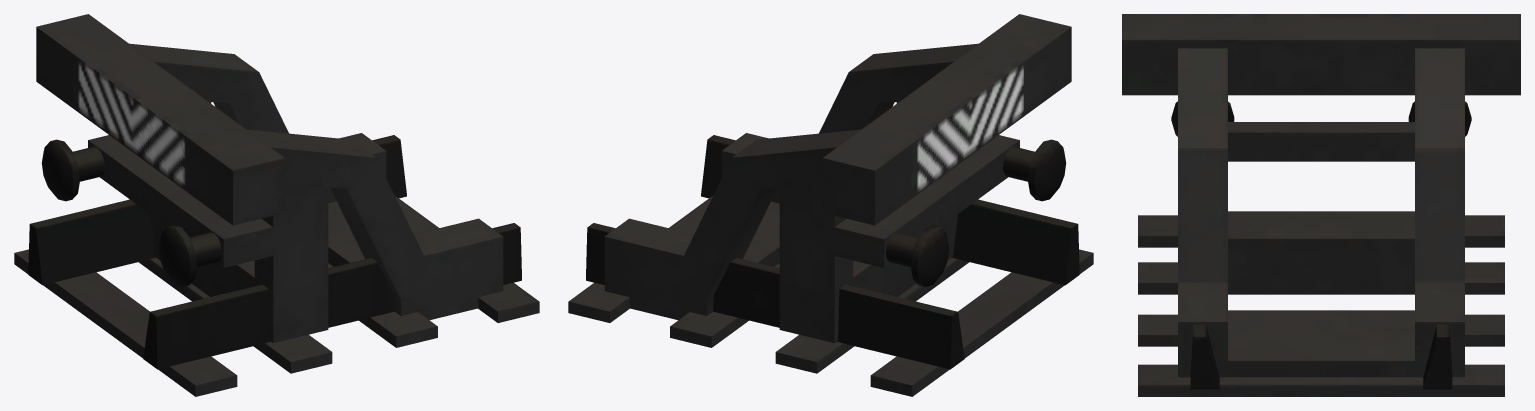
Rendered from SM_Railway_stop.fbx.
3 views of the same model, side by side, from view 1: azimuth 30°, elevation 25°; view 2: azimuth 150°, elevation 25°; view 3: azimuth 270°, elevation 25° (orthographic).
Parts seen in each view (by area): view 1: SM_Railway_stop; view 2: SM_Railway_stop; view 3: SM_Railway_stop.
Part boxes in pixels (x1,y1,x2,y2): SM_Railway_stop: (14,14,539,396); SM_Railway_stop: (568,14,1093,396); SM_Railway_stop: (1122,14,1520,396).
Bounding box in the file's own units: 7.32 × 4.31 × 6.85.
Materials: 1 (1 with a texture image).
